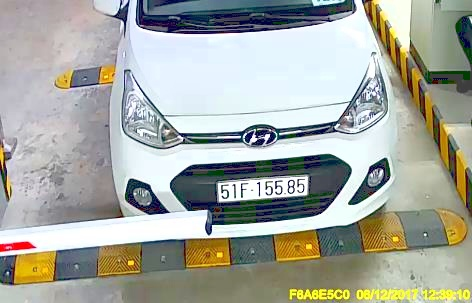plate: (217, 171, 313, 204)
